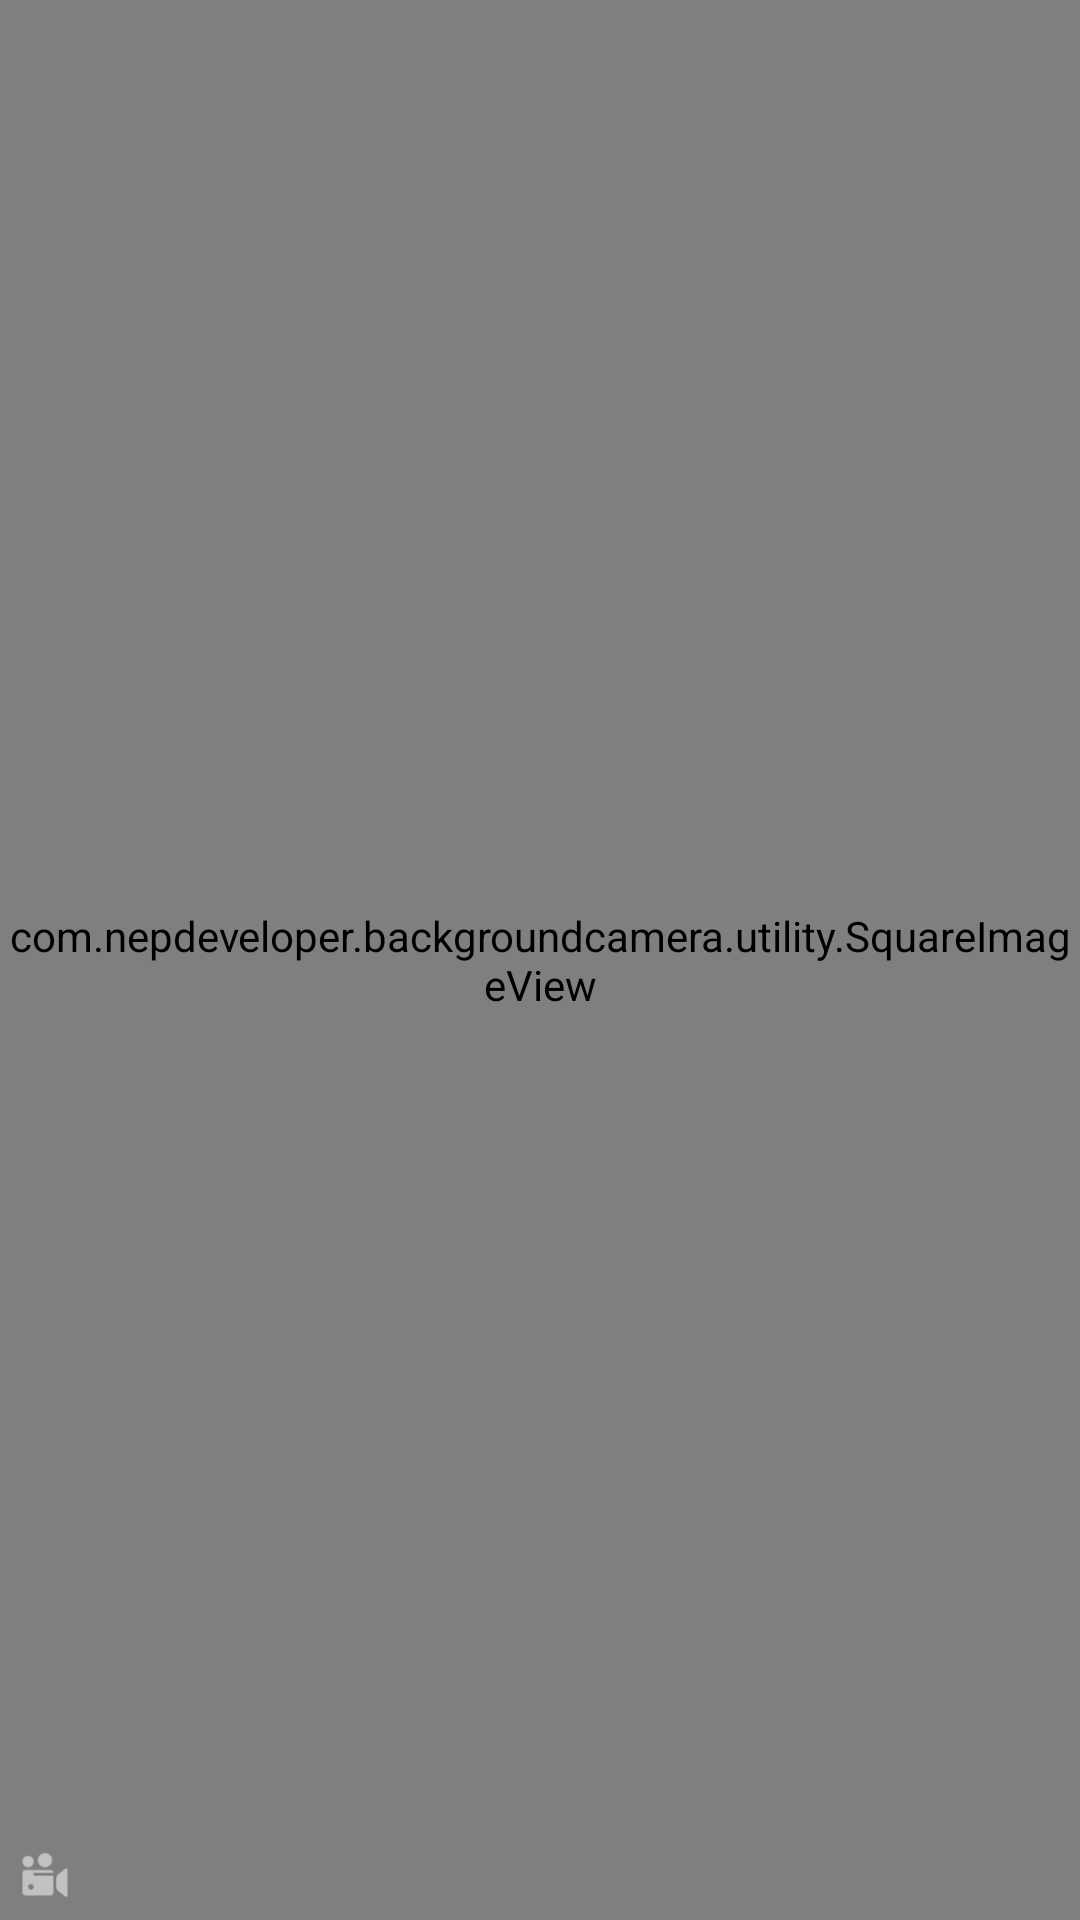

Where to tap for icons on this 1080×1920 app screen, as [x,y]:
Video: [45,1875]
